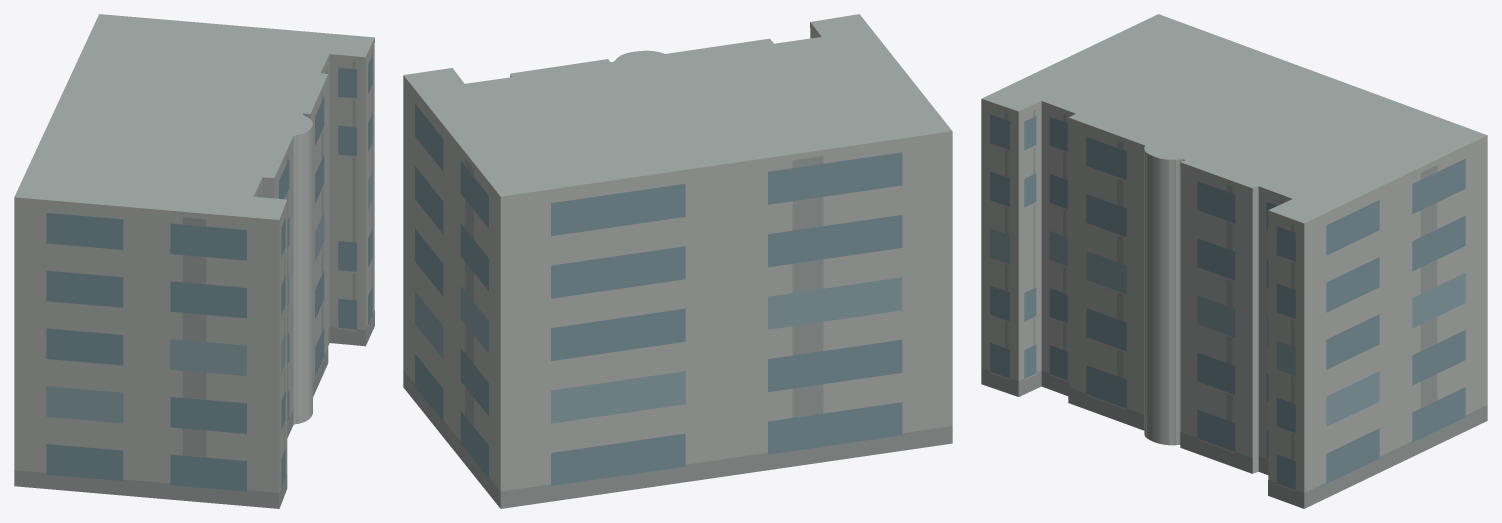
File: survey-upis-32537801.glb
3 renders of one model, left to right at view 1: azimuth 30°, elevation 25°; view 2: azimuth 150°, elevation 25°; view 3: azimuth 270°, elevation 25°, orthographic. The views are drawn at different scales.
Visible parts, largest first — view 1: survey-upis-32537801.tmp; view 2: survey-upis-32537801.tmp; view 3: survey-upis-32537801.tmp.
Part boxes in pixels (<box>): survey-upis-32537801.tmp: <box>14,14,374,508</box>; survey-upis-32537801.tmp: <box>403,14,952,508</box>; survey-upis-32537801.tmp: <box>981,14,1487,508</box>.
Bounding box in the file's own units: 19.91 × 12.65 × 20.34.
